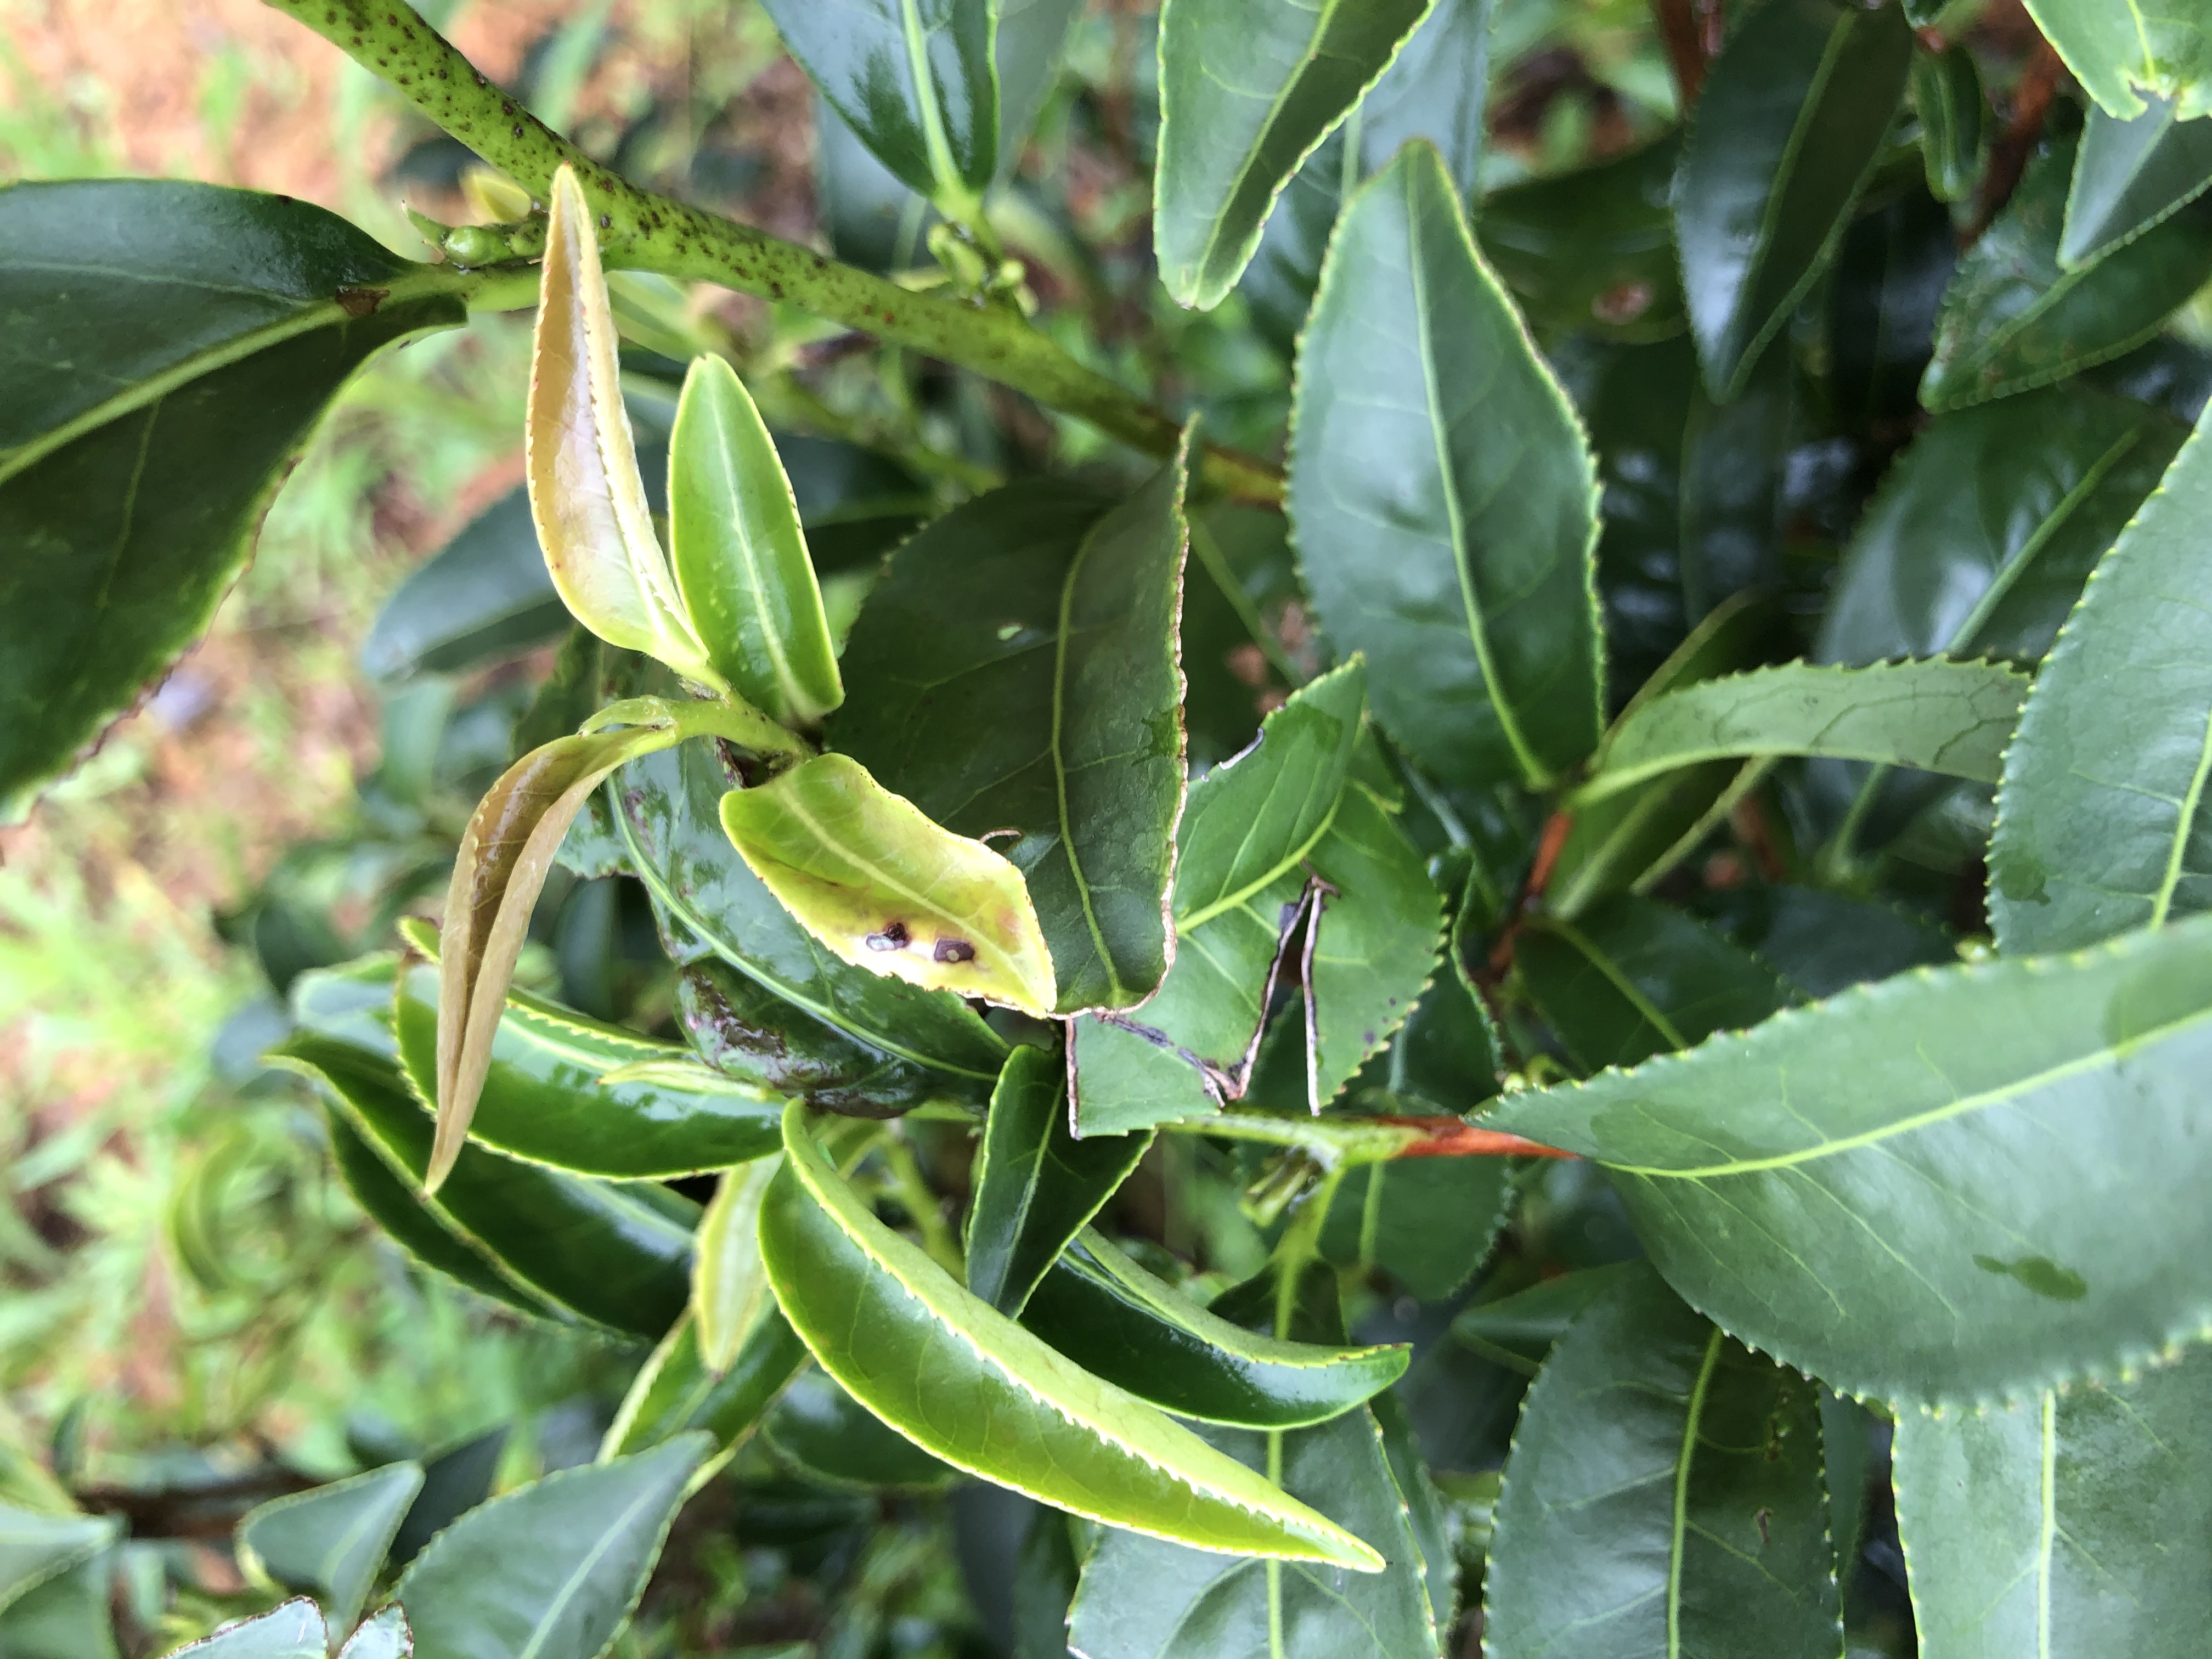formosa: (510, 173, 693, 688)
